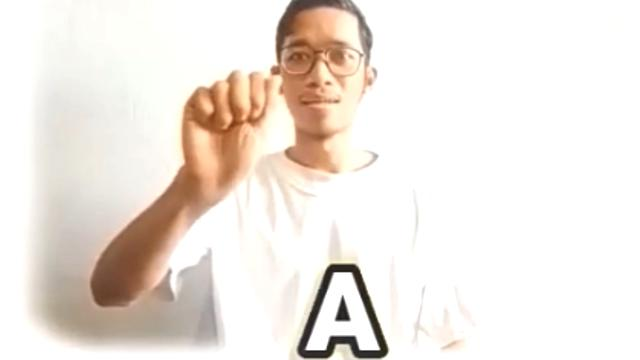A: (168, 66, 288, 202)
